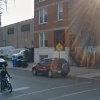Car: (28, 52, 73, 80)
